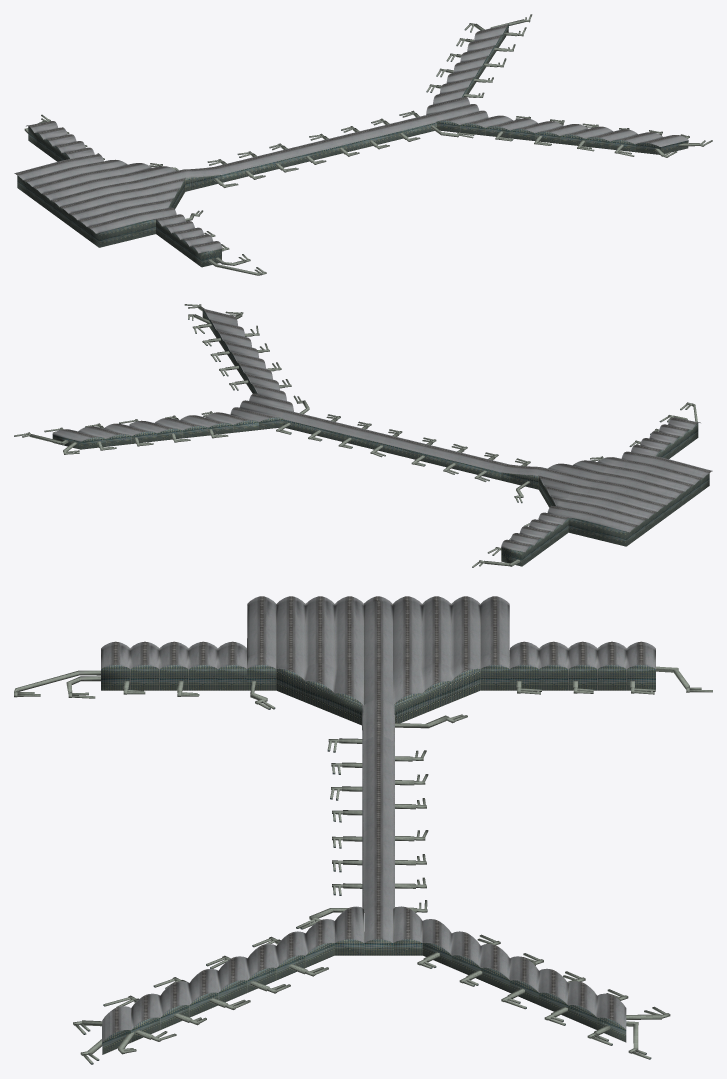
Rendered from Airport_HighLOD.dae.
The picture shows the model from 3 angles, top to bottom: view 1: azimuth 30°, elevation 25°; view 2: azimuth 150°, elevation 25°; view 3: azimuth 270°, elevation 25°; orthographic projection. The views are drawn at different scales.
Parts seen in each view (by area): view 1: HK_InternationalAirpo; view 2: HK_InternationalAirpo; view 3: HK_InternationalAirpo.
Part boxes in pixels (left/top/right/bottom): HK_InternationalAirpo: left=14, top=14, right=712, bottom=275; HK_InternationalAirpo: left=14, top=304, right=712, bottom=567; HK_InternationalAirpo: left=14, top=596, right=712, bottom=1064.
Bounding box in the file's own units: 51049 × 33797 × 1647.
1 material, 1 textured.
